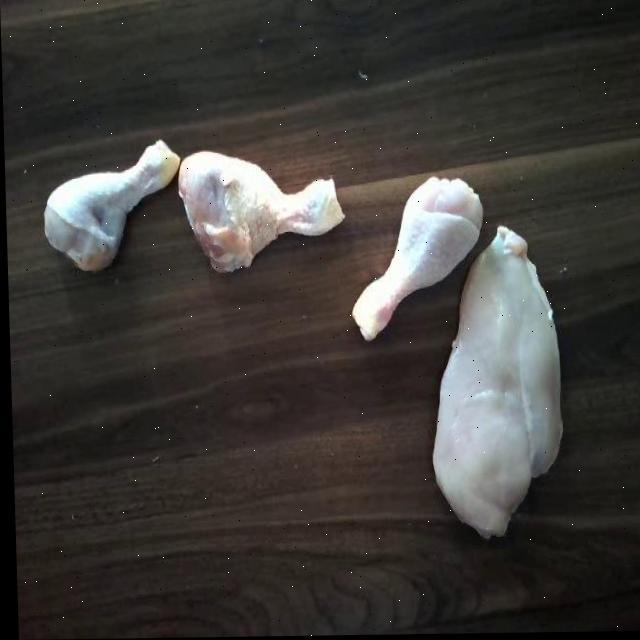breast: (427, 222, 565, 538)
leg: (341, 162, 483, 340), (168, 130, 346, 268), (27, 128, 182, 274)
